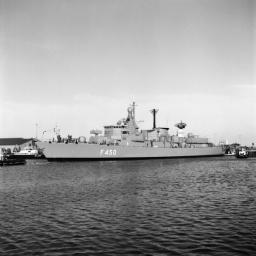Fragata: (34, 100, 226, 164)
